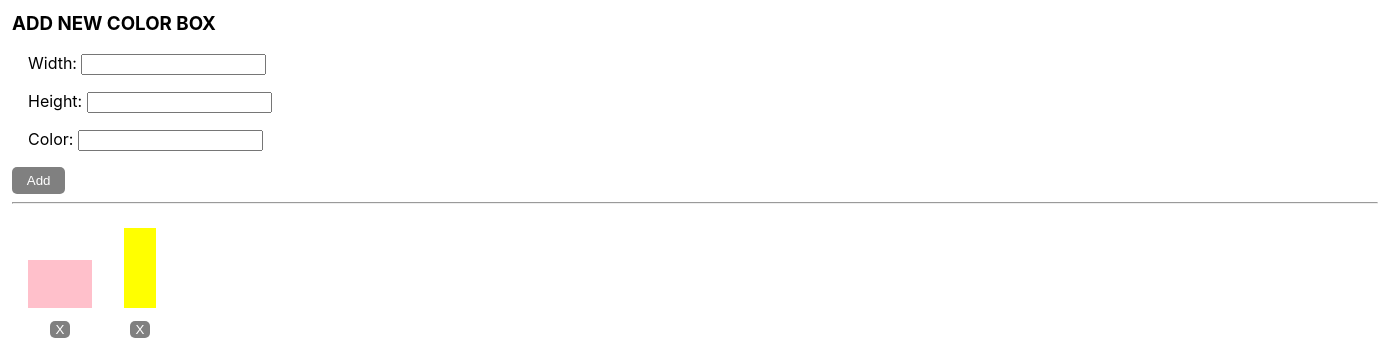
Test: can remove a box
The image size is (1390, 355).
click the remove button and the box should be gone
Click the 1st button "X".
click(60, 330)  # box [50,321,70,338]
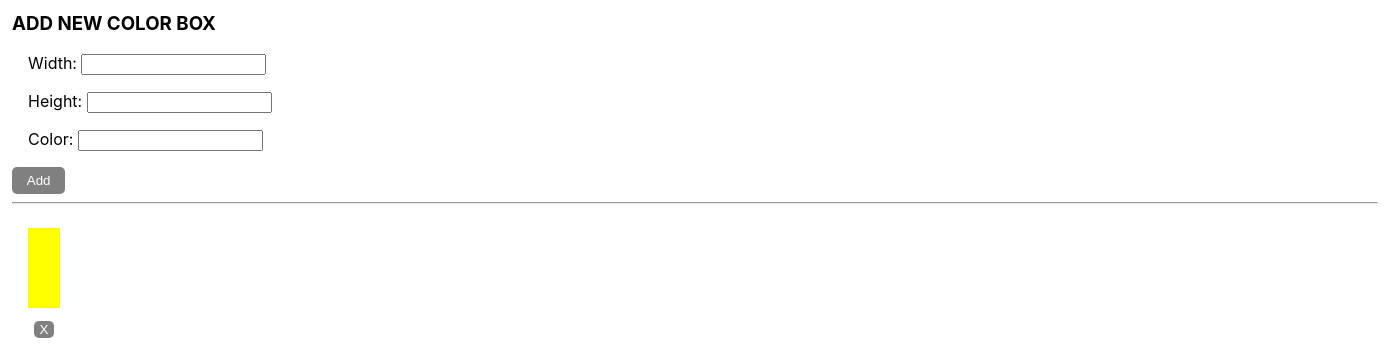
Expected: the number of buttons "X" is 1, [34,321,54,338]
